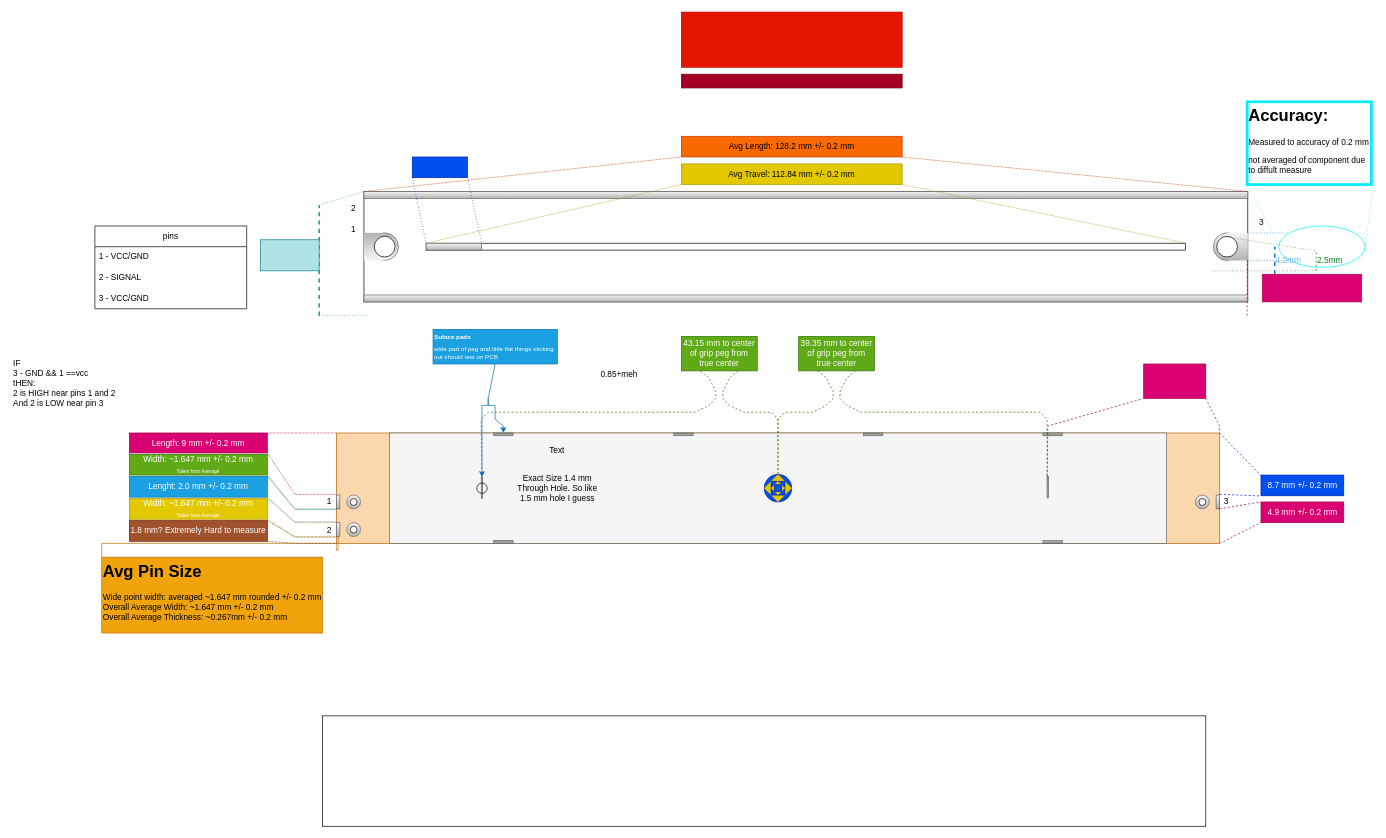
Image size: 1386x838. Some labels were removed from this diagram. The shapes that lost their labels are listed below. From the top down, each one's centre as x and y in pixels, then its label:
At (791,39): "Scale: 10:1".
At (791,80): "All measures need to be checked with better tools".
At (439,167): "Avg: 7.8 mm +/- 0.2 mm".
At (289,255): "width 15.28 mm avg +/- 0.2 mm".
At (1312,288): "midway point 7.34 mm avg +/- 0.2 mm".
At (1174,380): "25.3 mm to center of grip peg".
